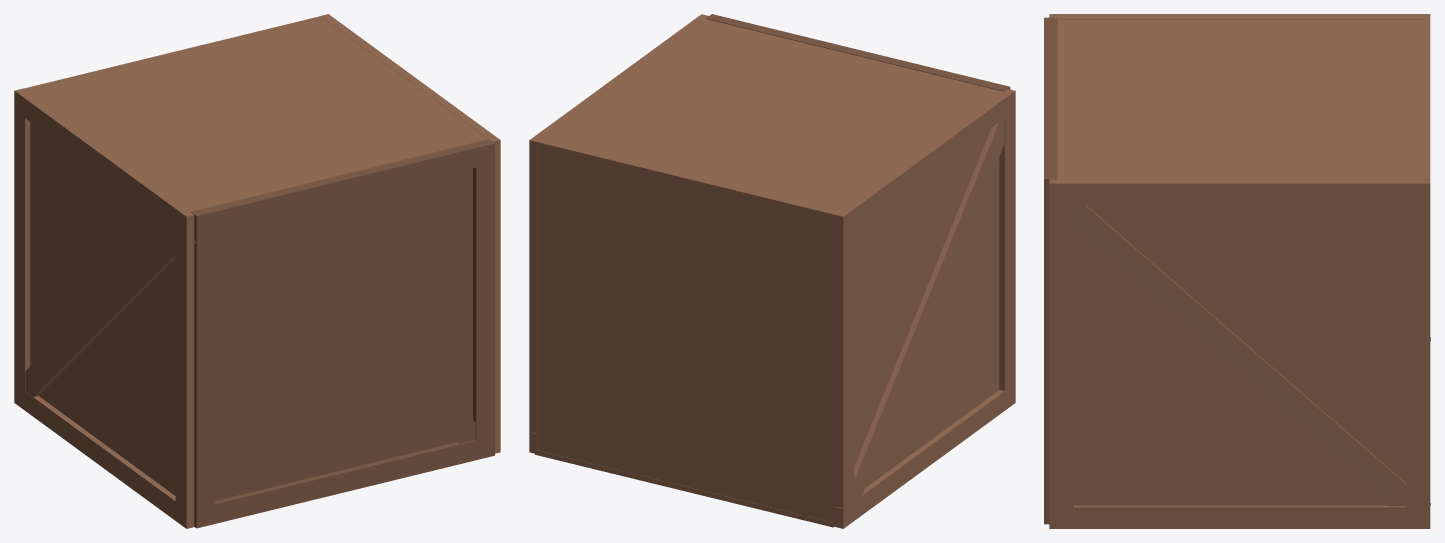
File: Crate2.fbx
3 renders of one model, left to right at view 1: azimuth 30°, elevation 25°; view 2: azimuth 150°, elevation 25°; view 3: azimuth 270°, elevation 25°, orthographic. The views are drawn at different scales.
Parts seen in each view (by area): view 1: Plane.003, Plane.005; view 2: Plane.003, Plane.005; view 3: Plane.003, Plane.005.
Part boxes in pixels (x1,y1,x2,y2): Plane.003: (14, 14, 500, 528); Plane.005: (191, 139, 494, 528); Plane.003: (529, 14, 1015, 528); Plane.005: (706, 14, 1010, 91); Plane.003: (1049, 14, 1430, 528); Plane.005: (1044, 17, 1057, 524).
Bounding box in the file's own units: 776 × 740 × 748.
